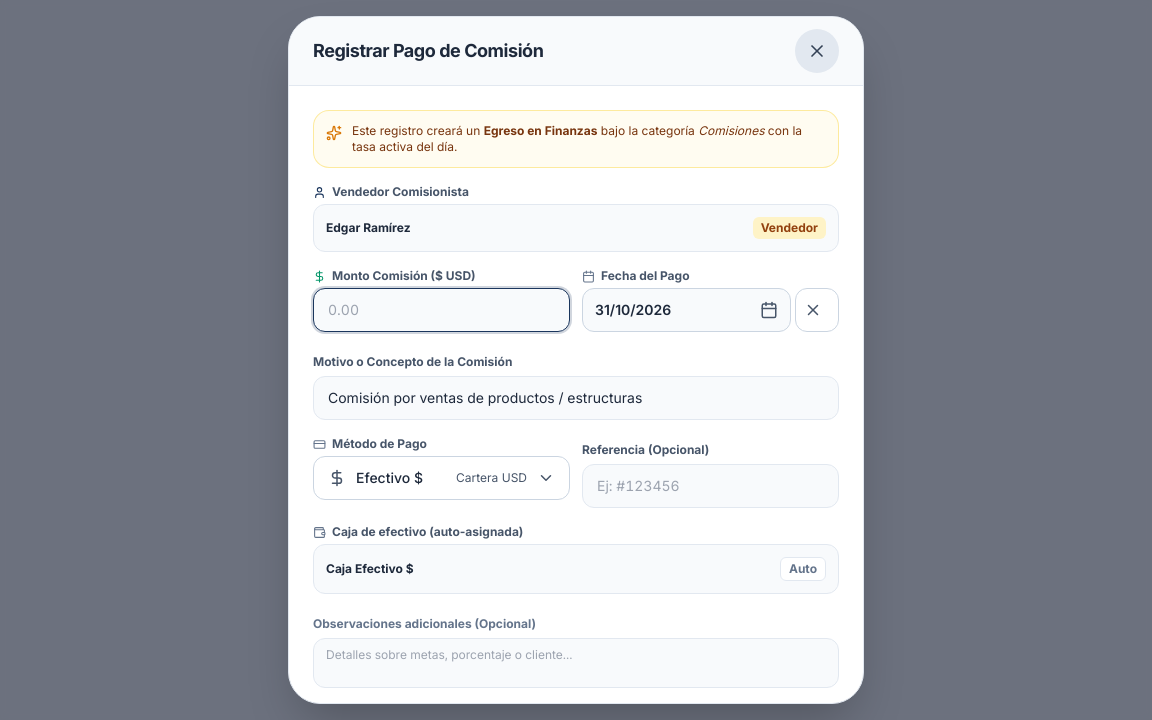
Test: ComisionPagoModal — invariante anti-huérfanos › sin cuenta seleccionada en método bancario, no envía y avisa
This screenshot has width=1152, height=720.
Type "25" into the number field with placeholder "0.00" at (442, 310), box [313,288,570,332]
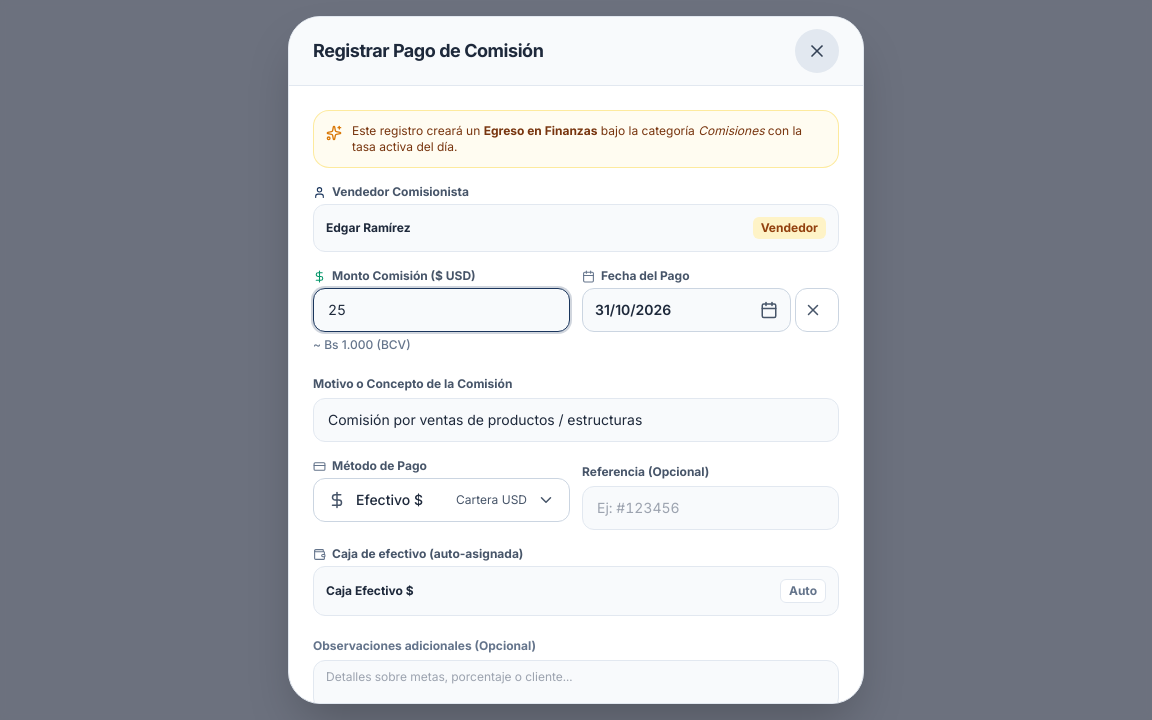
Type "Comisión de prueba" into the field with placeholder "Ej: Comisión por venta de estructuras / montaje" at (576, 420), box [313,398,839,442]
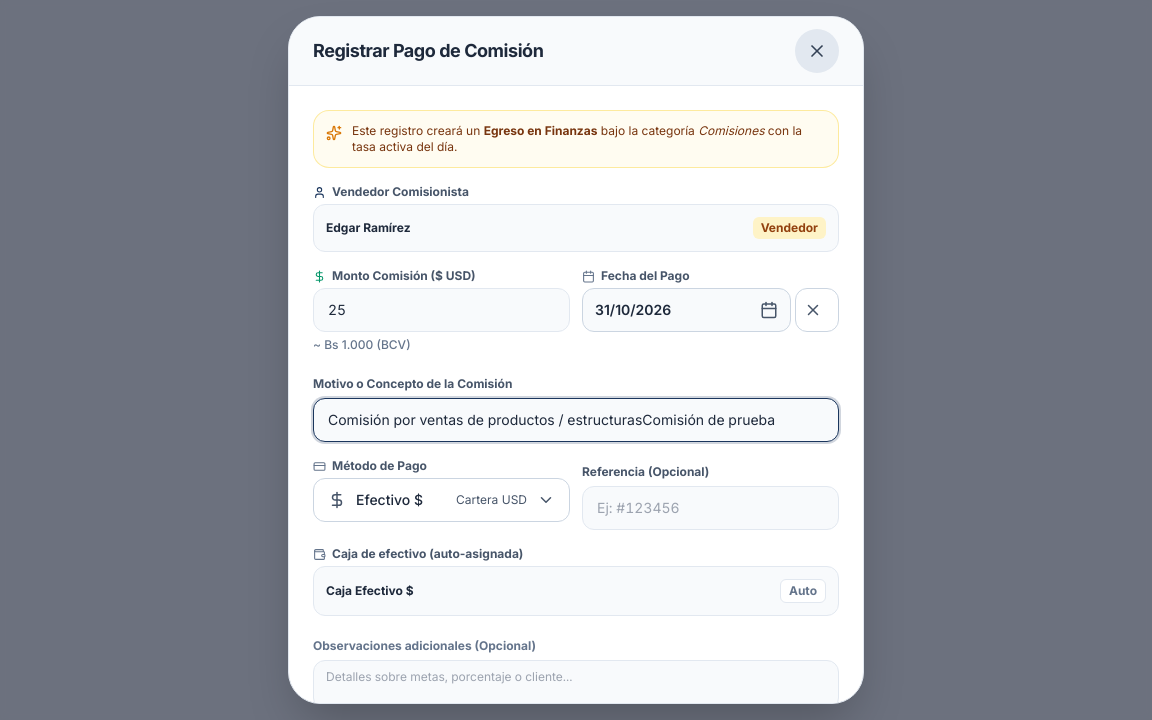
Click the dropdown at (442, 500), box [313,478,570,522]
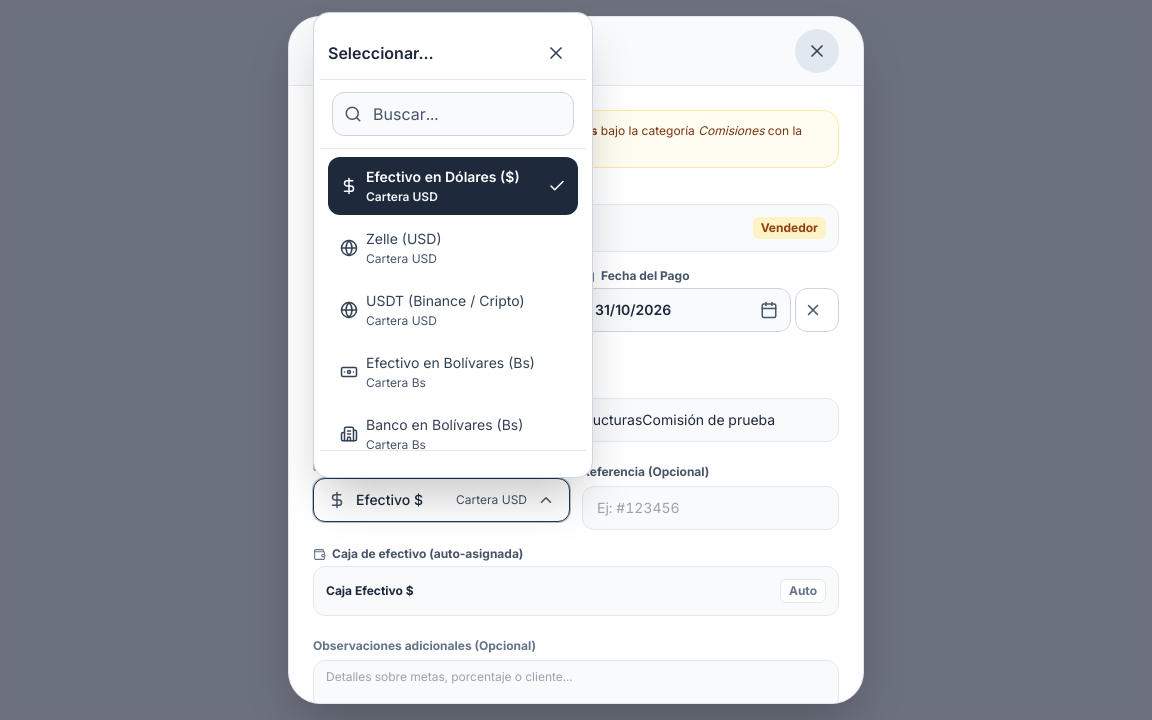
Click the option "Banco en Bolívares (Bs) Cartera Bs" at (453, 434), box [328,405,578,463]
(page scrolled)
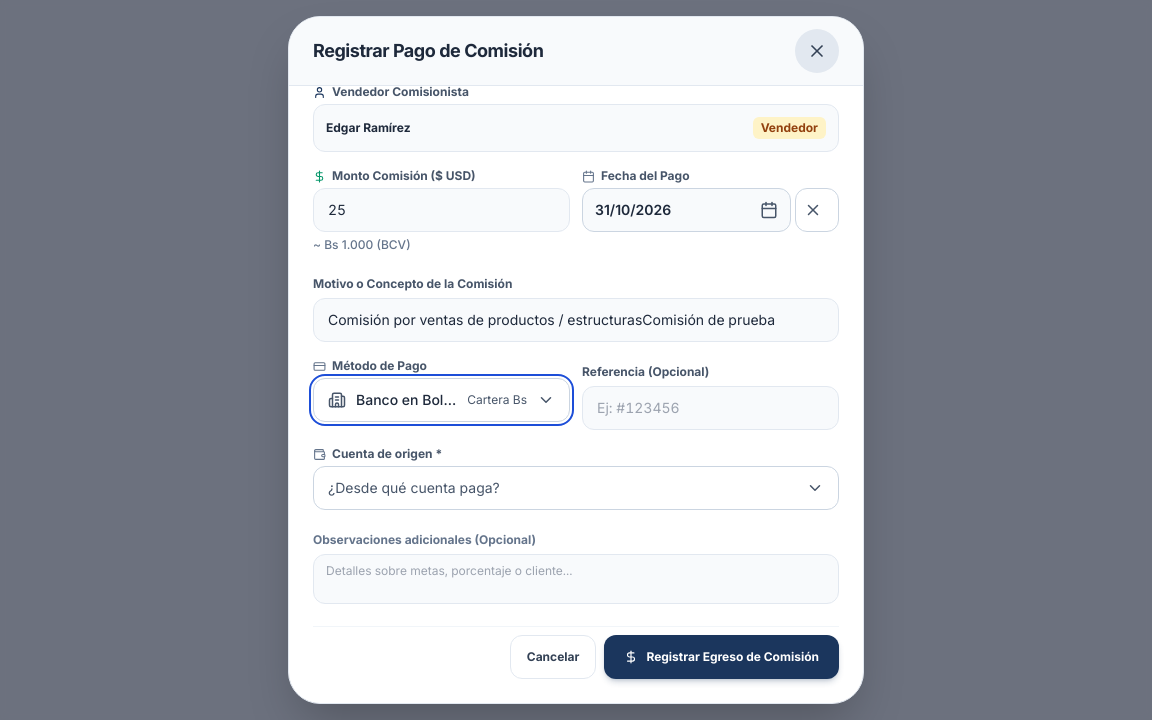
Click the button "Registrar Egreso de Comisión" at (722, 657), box [604,635,839,679]
(page scrolled)
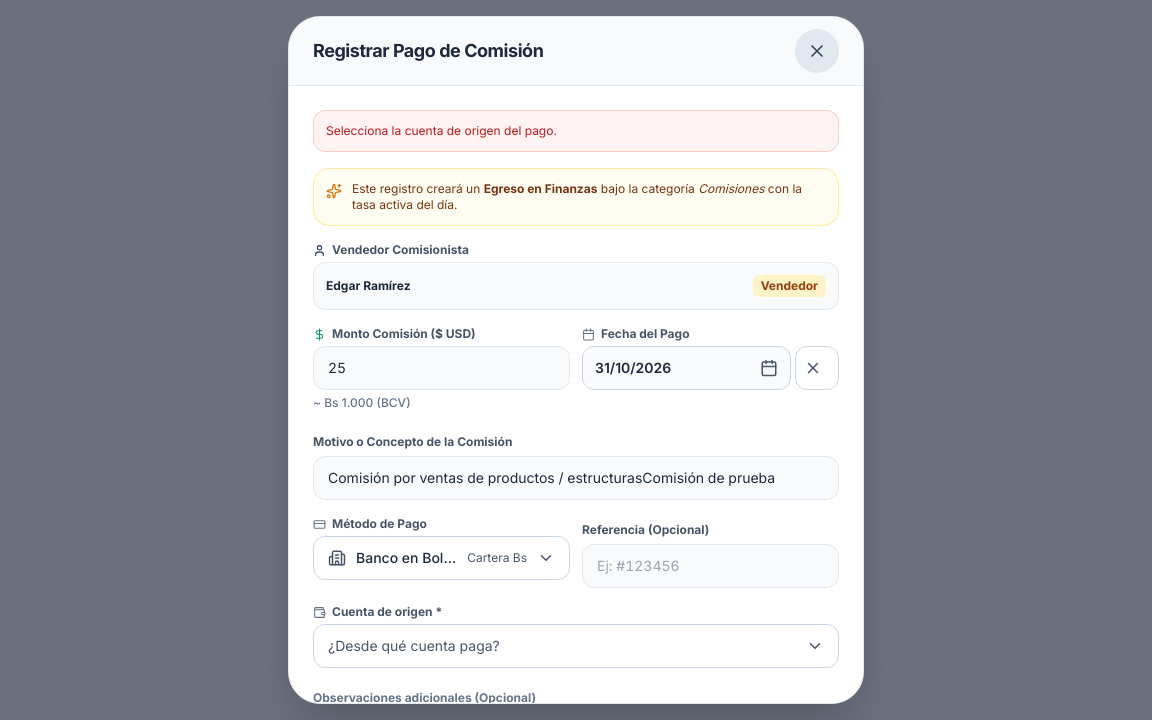
Expected: the text "Selecciona la cuenta de origen del pago." is shown, [313,110,839,152]
